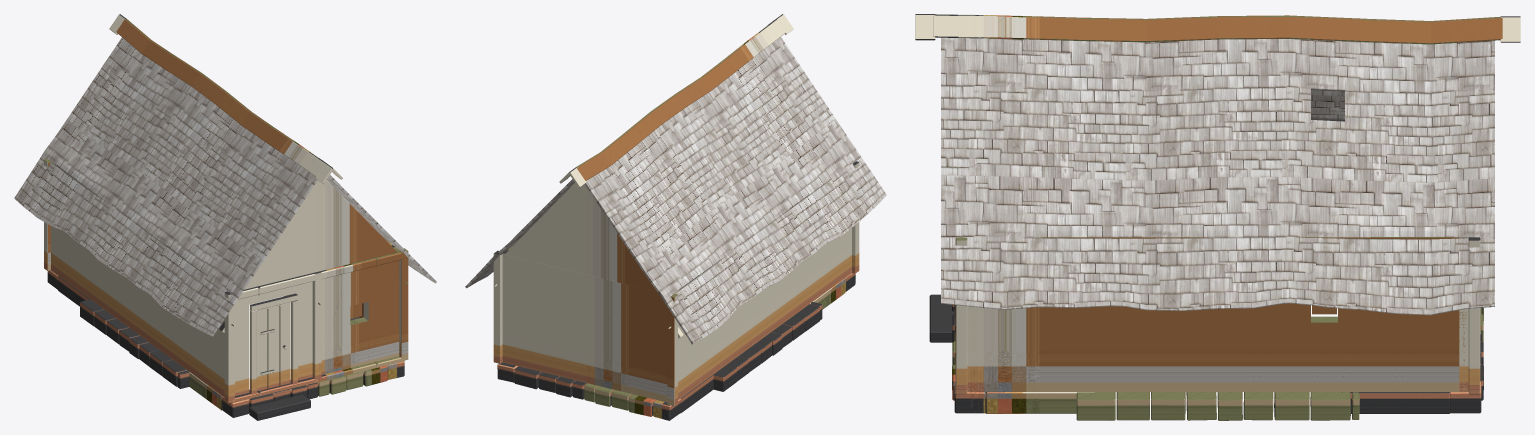
File: tier1_residence_retopo_v24.glb
3 views of the same model, side by side, from view 1: azimuth 30°, elevation 25°; view 2: azimuth 150°, elevation 25°; view 3: azimuth 270°, elevation 25° (orthographic). The views are drawn at different scales.
Parts seen in each view (by area): view 1: T1_RoofSkin_Left, T1_Wall_Front_SquareHole, T1_Gable_Front, T1_Wall_Left_A, T1_Door_Front, T1_Wall_Front_Door, T1_Foundation_Left_Centre, T1_Wall_Left_SquareHole, T1_Foundation_Corner_Front_Left, T1_Front_WallPlate, T1_Foundation_Corner_Front_Right, T1_Wall_Left_C (+15 smaller); view 2: T1_RoofSkin_Left, T1_Wall_Rear, T1_Gable_Rear, T1_Wall_Left_A, T1_Foundation_Left_Centre, T1_Wall_Left_SquareHole, T1_Foundation_Corner_Rear_Left, T1_Foundation_Corner_Rear_Right, T1_Wall_Left_C, T1_Post_Rear_+2, T1_Post_Rear_-2, T1_RoofSkin_Right (+10 smaller); view 3: T1_RoofSkin_Right, T1_Wall_Right_A, T1_Wall_Right_SquareHole, T1_Foundation_Right_Centre, T1_Wall_Right_C, T1_Foundation_Corner_Rear_Right, T1_Foundation_Corner_Front_Right, T1_Ridge_Run04, T1_Ridge_Run00, T1_Ridge_Run07, T1_Ridge_Run03, T1_Ridge_Run01 (+9 smaller).
Boxes of the visible parts, x1,y1,x2,y2 form: T1_RoofSkin_Left: (14,37,317,336); T1_Wall_Front_SquareHole: (321,247,399,374); T1_Gable_Front: (244,180,397,289); T1_Wall_Left_A: (127,232,224,397); T1_Door_Front: (250,293,298,398); T1_Wall_Front_Door: (235,281,312,395); T1_Foundation_Left_Centre: (80,299,189,388); T1_Wall_Left_SquareHole: (77,180,126,325); T1_Foundation_Corner_Front_Left: (186,370,317,417); T1_Front_WallPlate: (238,251,404,299); T1_Foundation_Corner_Front_Right: (318,361,404,396); T1_Wall_Left_C: (52,164,76,289); T1_RoofSkin_Left: (584,37,886,344); T1_Wall_Rear: (502,250,678,402); T1_Gable_Rear: (504,183,657,291); T1_Wall_Left_A: (751,184,851,346); T1_Foundation_Left_Centre: (713,302,822,391); T1_Wall_Left_SquareHole: (700,251,750,383); T1_Foundation_Corner_Rear_Left: (584,375,713,420); T1_Foundation_Corner_Rear_Right: (497,362,587,399); T1_Wall_Left_C: (678,274,700,399); T1_Post_Rear_+2: (493,250,502,363); T1_Post_Rear_-2: (667,294,677,406); T1_RoofSkin_Right: (465,179,574,288); T1_RoofSkin_Right: (941,37,1494,315); T1_Wall_Right_A: (969,237,1253,391); T1_Wall_Right_SquareHole: (1253,237,1395,391); T1_Foundation_Right_Centre: (1076,392,1359,420); T1_Wall_Right_C: (1395,237,1465,391); T1_Foundation_Corner_Rear_Right: (1342,334,1483,413); T1_Foundation_Corner_Front_Right: (952,334,1094,413); T1_Ridge_Run04: (1217,15,1289,39); T1_Ridge_Run00: (933,14,1005,38); T1_Ridge_Run07: (1430,16,1502,44); T1_Ridge_Run03: (1146,16,1218,42); T1_Ridge_Run01: (1004,15,1076,40).
Size of the model in its own units: 5.32 by 5.28 by 8.52.
11 materials, 11 textured.
